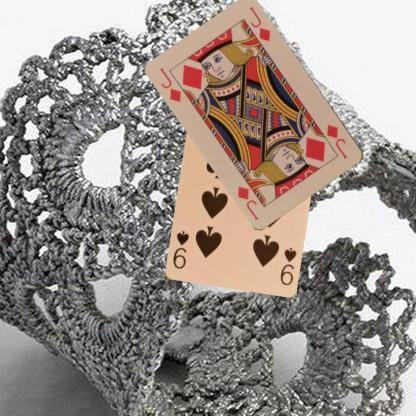9s: (278, 244, 298, 286)
Jd: (157, 66, 183, 104), (324, 122, 349, 161)
